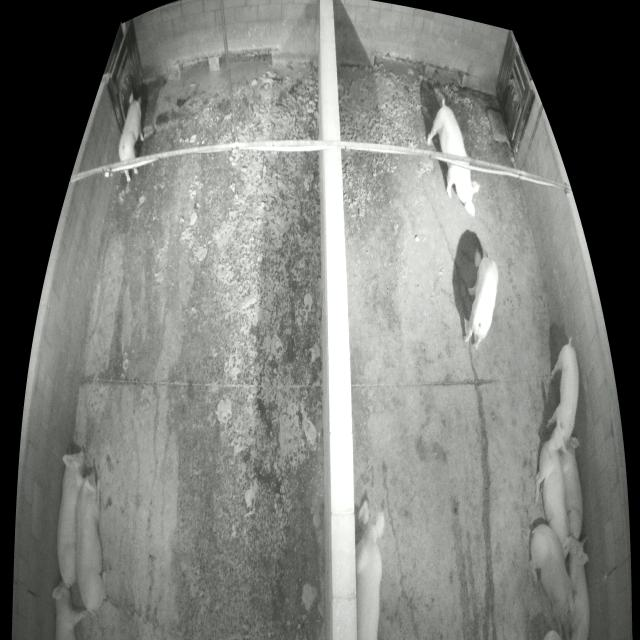pig: (427, 105, 480, 218), (529, 526, 576, 639), (75, 471, 106, 612), (355, 499, 385, 639), (56, 449, 85, 588), (546, 344, 579, 455), (462, 249, 498, 349), (535, 442, 568, 544), (563, 534, 591, 639), (558, 437, 584, 540), (118, 91, 145, 181), (52, 581, 86, 639)
